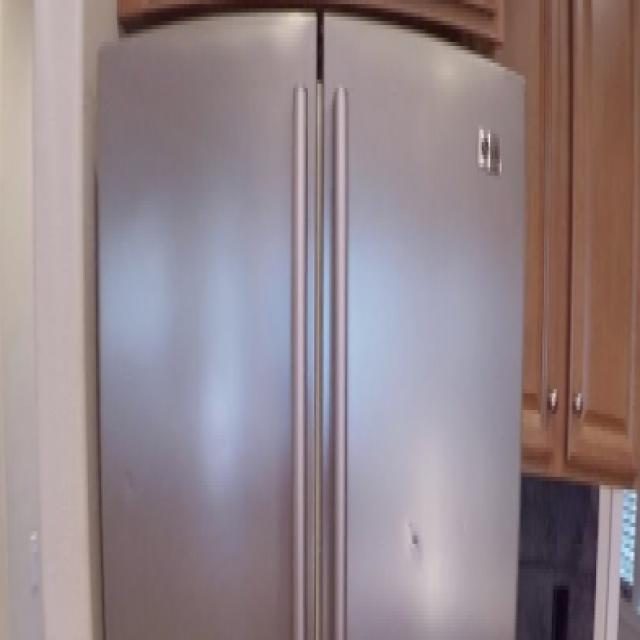dents: (397, 505, 436, 598)
